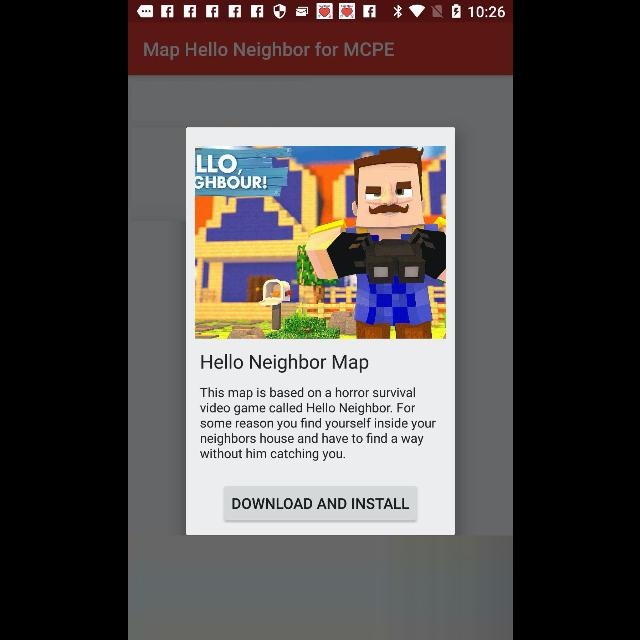image: (194, 146, 446, 340)
panel: (185, 128, 455, 534)
text: (199, 387, 435, 461), (144, 41, 394, 60), (200, 354, 368, 374)
textbutton: (223, 486, 417, 522)
uppertaskbar: (128, 1, 512, 23)
